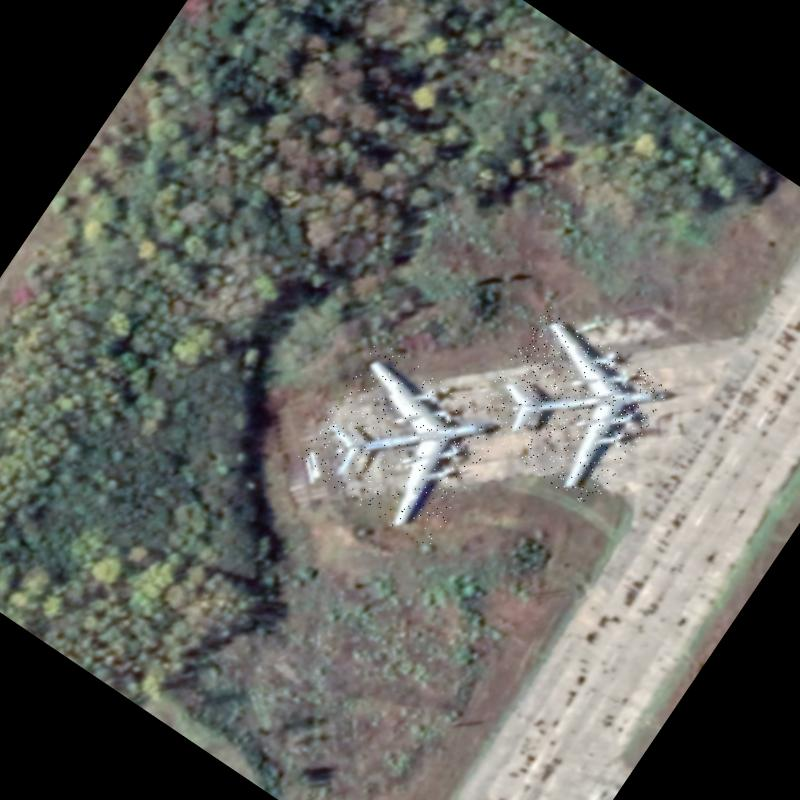A17: (294, 338, 510, 551), (464, 304, 672, 512)
